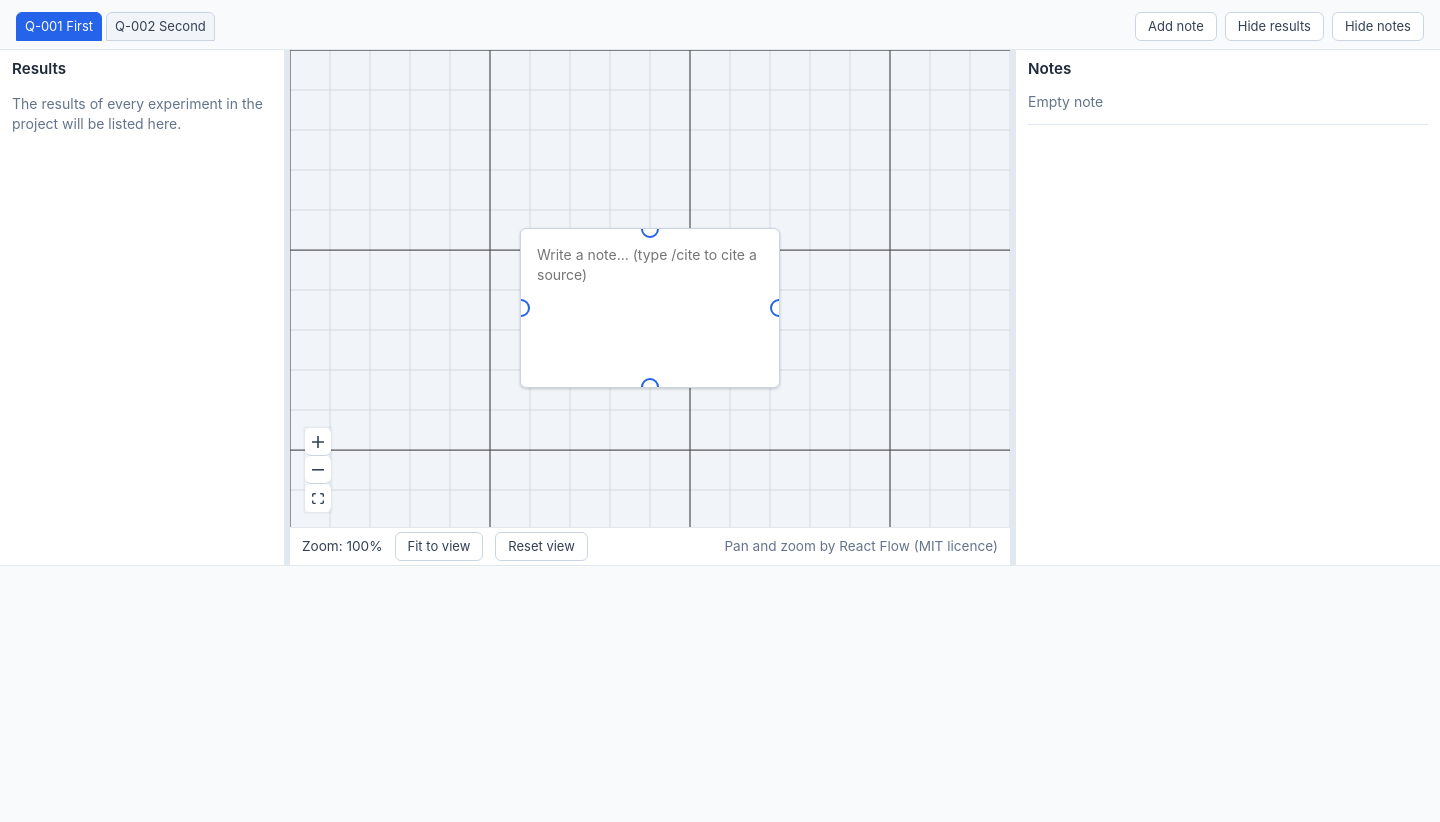
notes › removes a note from its right-click menu, and its lines with it
The image size is (1440, 822).
Right-click the element with class "canvas-note": (650, 308) [520,228,780,388]
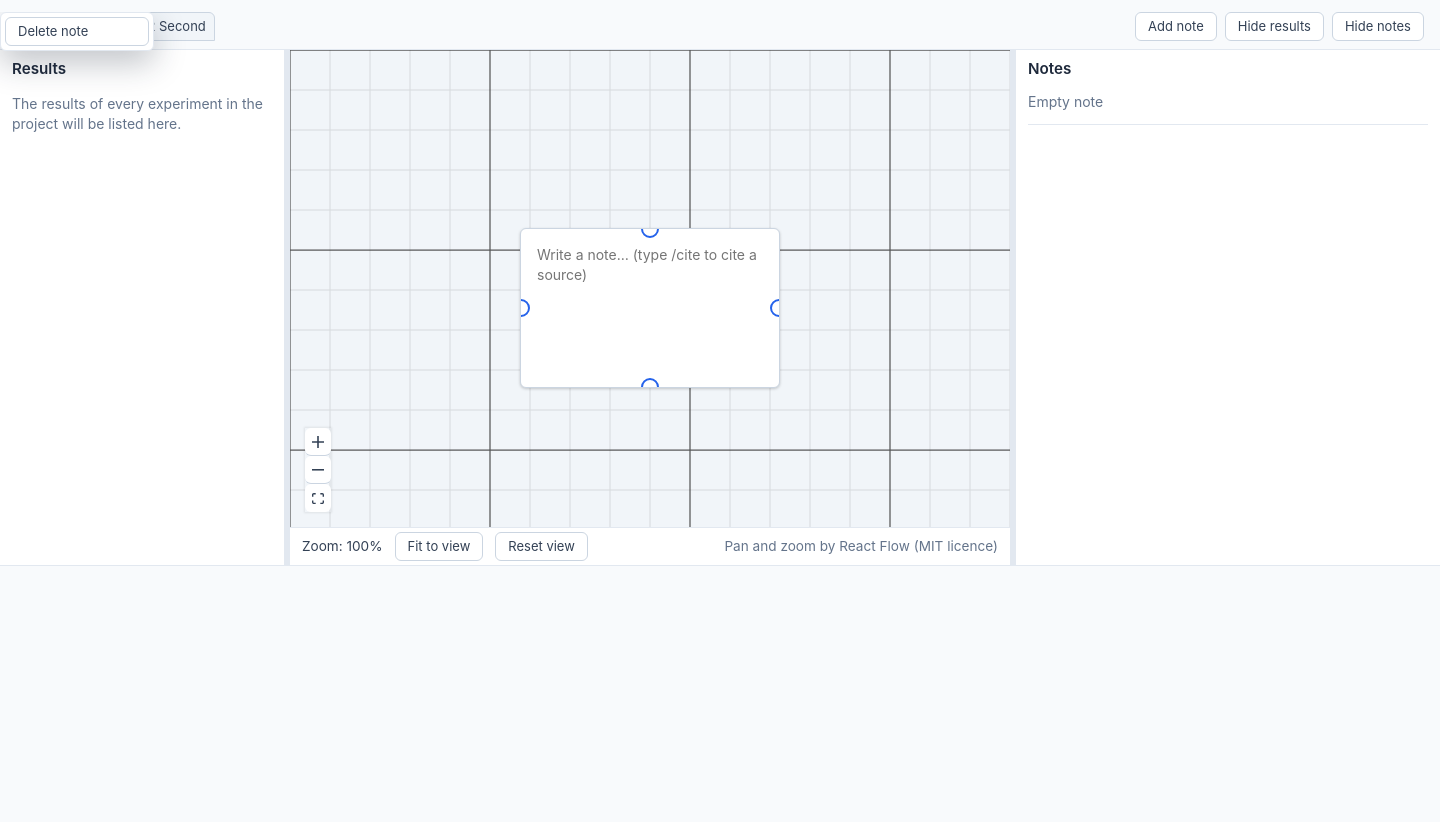
Click the menu item "Delete note": (77, 31) [5,17,149,46]
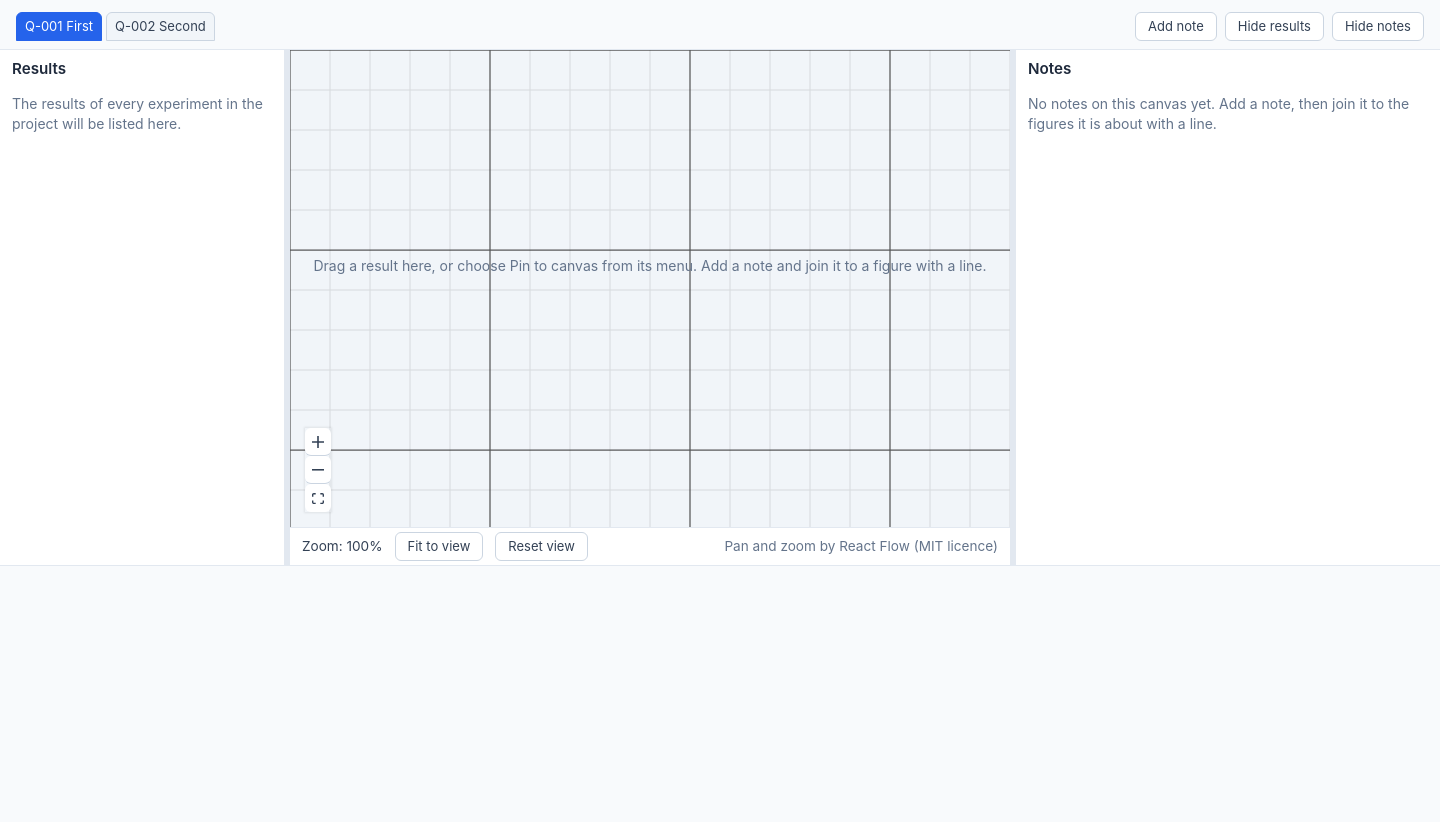
Expected: the element with class "canvas-note" is gone
